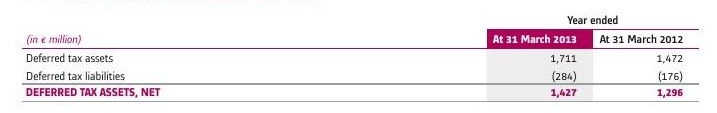table: (0, 0, 717, 113)
